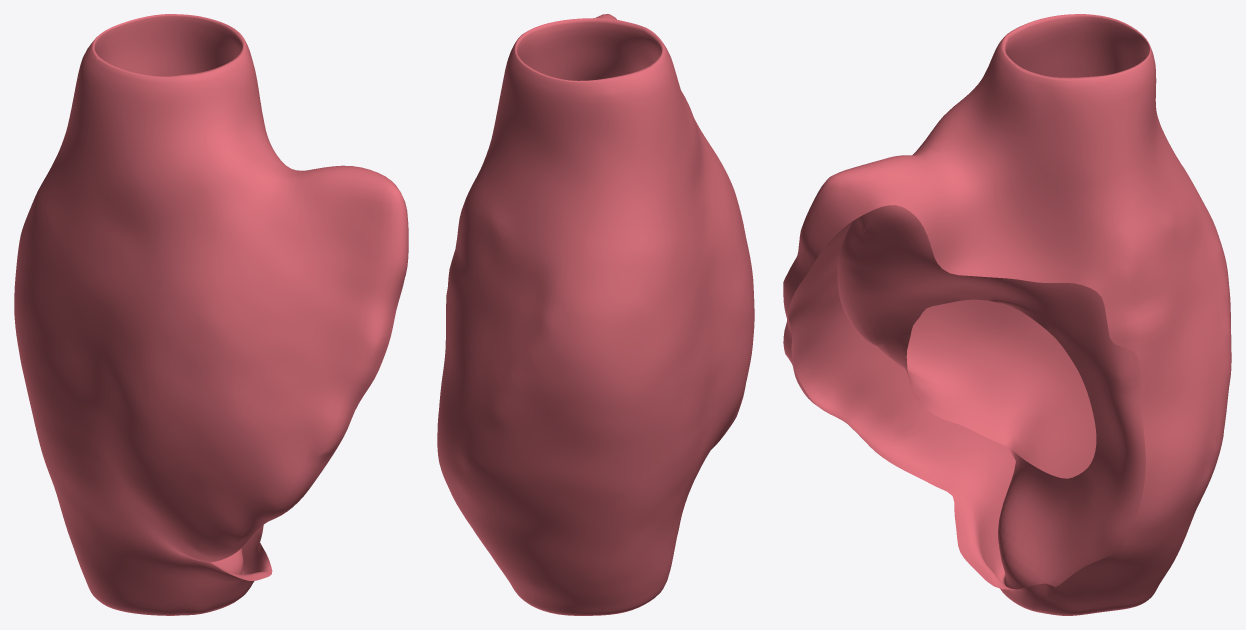
The picture shows the model from 3 angles, left to right: view 1: azimuth 30°, elevation 25°; view 2: azimuth 150°, elevation 25°; view 3: azimuth 270°, elevation 25°; orthographic projection.
Parts seen in each view (by area): view 1: ZA_103f722cc14b6d08; view 2: ZA_103f722cc14b6d08; view 3: ZA_103f722cc14b6d08.
Boxes of the visible parts, bbox=[...] form: ZA_103f722cc14b6d08: bbox=[14, 14, 408, 615]; ZA_103f722cc14b6d08: bbox=[437, 14, 754, 615]; ZA_103f722cc14b6d08: bbox=[783, 14, 1231, 615].
Size of the model in its own units: 0.0447 by 0.0986 by 0.0737.
